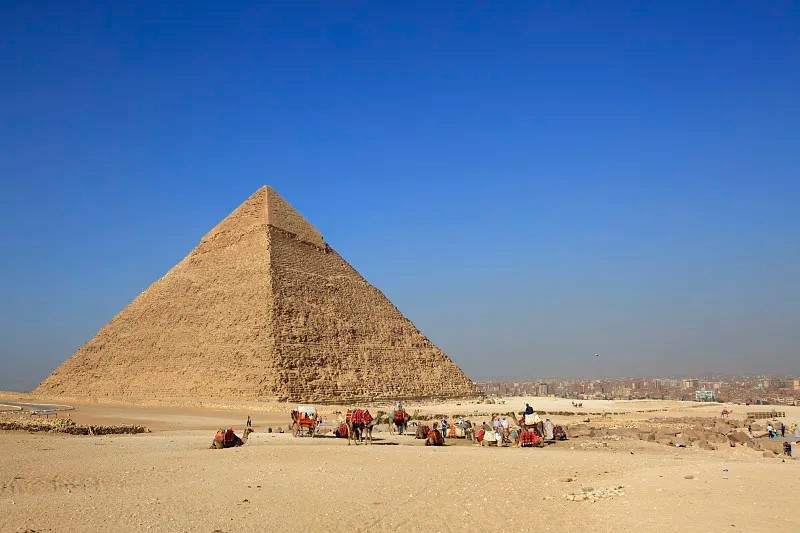Pyramid: (31, 183, 487, 404)
